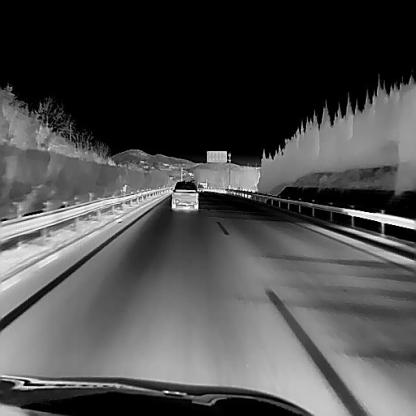car: (170, 180, 198, 209), (196, 183, 204, 191)
